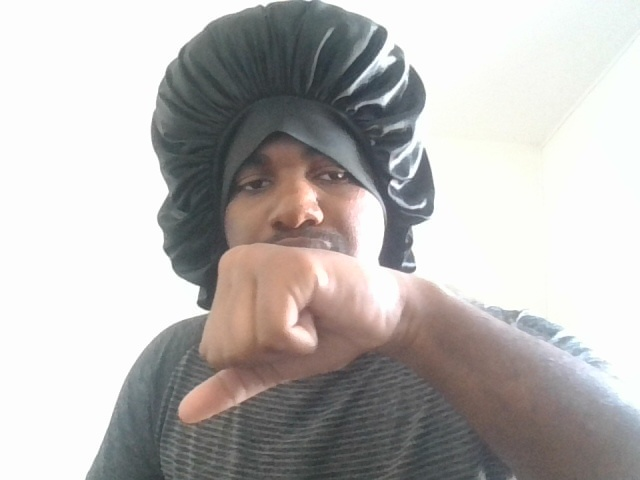Yes: (161, 239, 410, 432)
